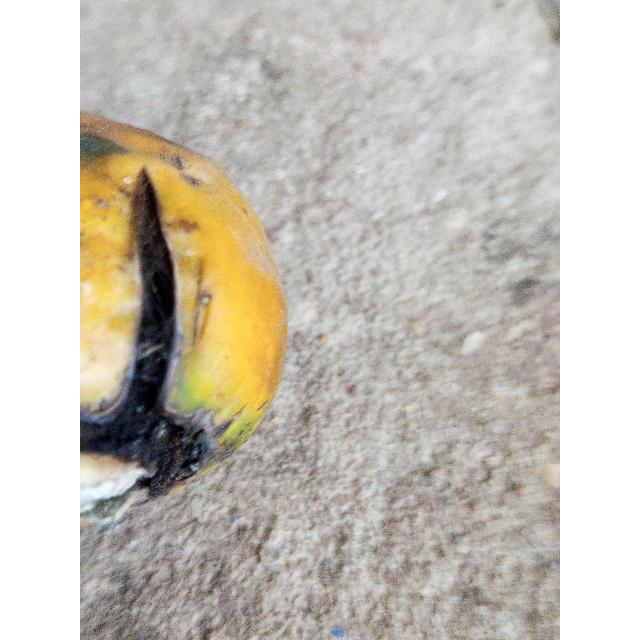damaged: (80, 111, 287, 516)
